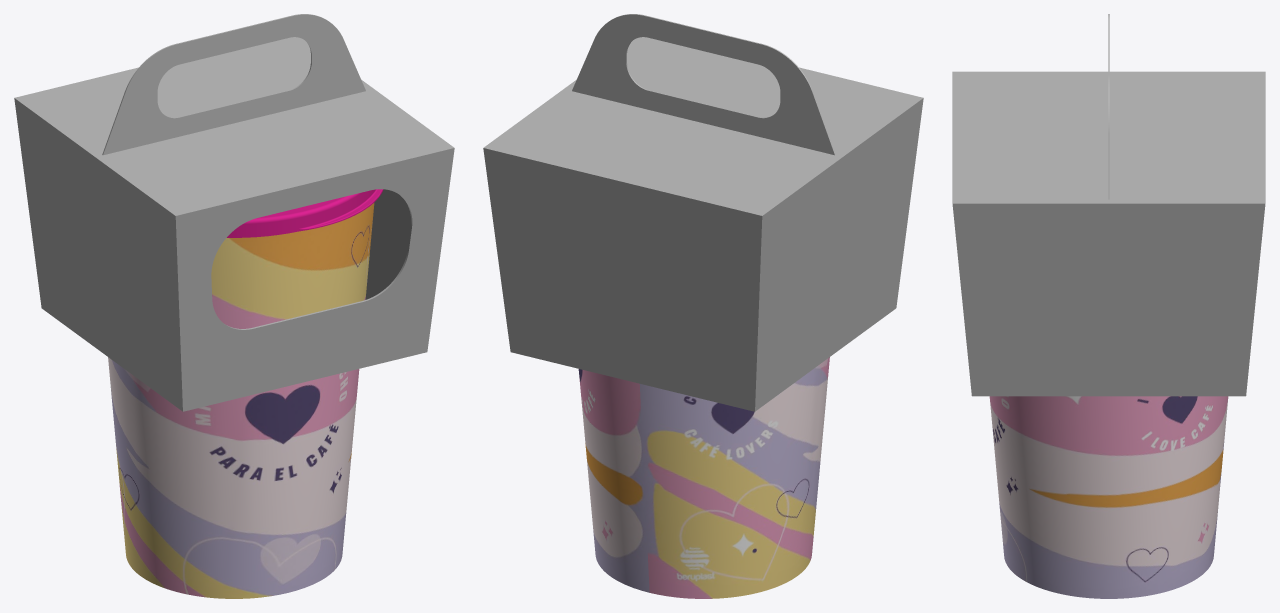
Rendered from Sombrero_012.glb.
The picture shows the model from 3 angles, left to right: view 1: azimuth 30°, elevation 25°; view 2: azimuth 150°, elevation 25°; view 3: azimuth 270°, elevation 25°; orthographic projection. The views are drawn at different scales.
Visible parts, largest first — view 1: object_2_n3d, object_1%2E002_n3d, object_1_n3d, tapa pico; view 2: object_2_n3d, object_1%2E002_n3d, object_1_n3d; view 3: object_2_n3d, object_1%2E002_n3d.
Part boxes in pixels (x1,y1,x2,y2): object_2_n3d: [14, 37, 454, 411]; object_1%2E002_n3d: [108, 203, 374, 598]; object_1_n3d: [102, 14, 365, 155]; tapa pico: [227, 189, 383, 237]; object_2_n3d: [483, 37, 923, 411]; object_1%2E002_n3d: [578, 357, 829, 598]; object_1_n3d: [572, 14, 835, 155]; object_2_n3d: [952, 71, 1265, 396]; object_1%2E002_n3d: [989, 396, 1228, 598].
Bounding box in the file's own units: 1.27 × 2.27 × 1.27.
Materials: 4 (1 with a texture image).
